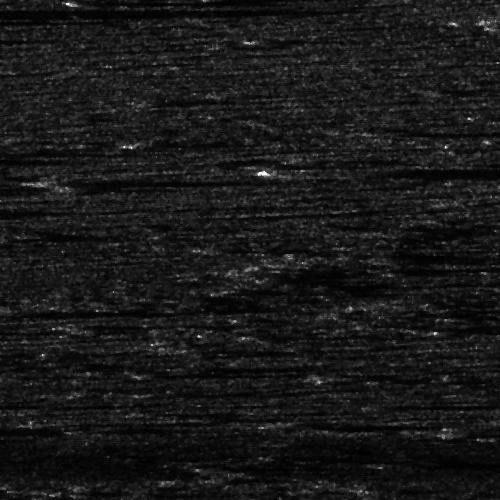object: (350, 459, 433, 466)
shadow: (392, 459, 500, 466)
